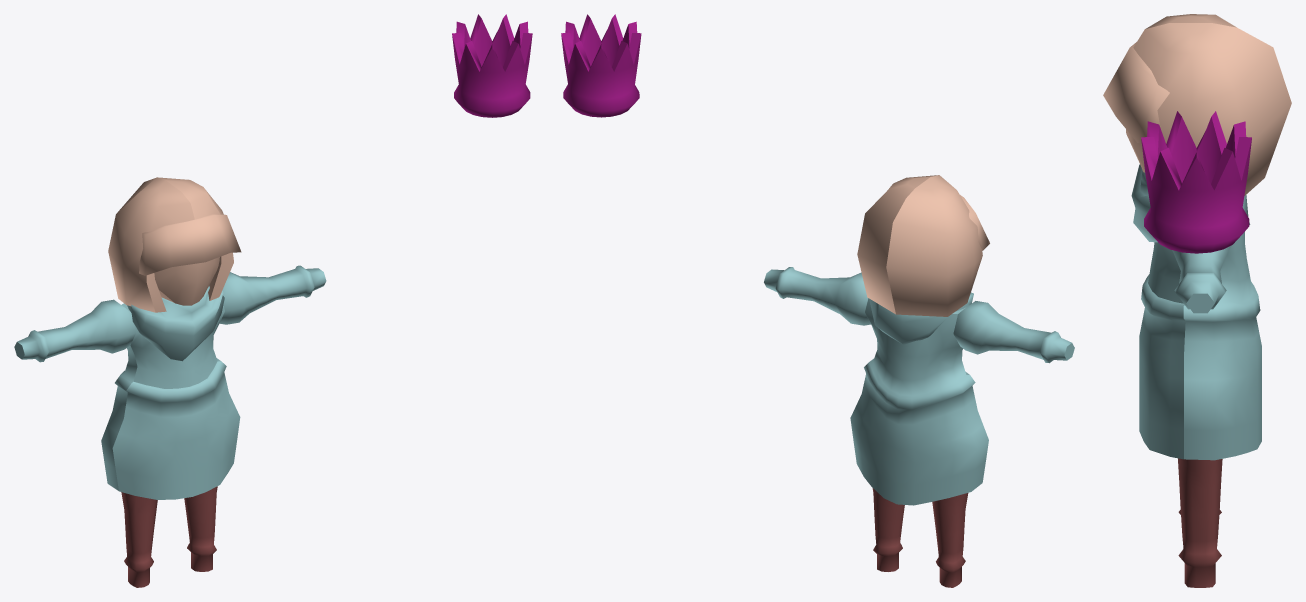
The model's file is princess_lp.obj.
The picture shows the model from 3 angles, left to right: view 1: azimuth 30°, elevation 25°; view 2: azimuth 150°, elevation 25°; view 3: azimuth 270°, elevation 25°; orthographic projection. The views are drawn at different scales.
Visible parts, largest first — view 1: body_lp, hair_lp, crown_lp, pants_lp, scarf_lp, face_lp; view 2: body_lp, hair_lp, crown_lp, pants_lp, scarf_lp; view 3: body_lp, hair_lp, crown_lp, pants_lp, scarf_lp, face_lp.
Part boxes in pixels (left/top/right/bottom): body_lp: left=14, top=265, right=326, bottom=499; hair_lp: left=108, top=177, right=241, bottom=312; crown_lp: left=452, top=14, right=532, bottom=117; pants_lp: left=121, top=486, right=217, bottom=587; scarf_lp: left=127, top=286, right=224, bottom=361; face_lp: left=154, top=257, right=219, bottom=305; body_lp: left=764, top=267, right=1074, bottom=505; hair_lp: left=857, top=175, right=989, bottom=316; crown_lp: left=561, top=14, right=641, bottom=117; pants_lp: left=872, top=488, right=968, bottom=587; scarf_lp: left=869, top=292, right=973, bottom=344; body_lp: left=1139, top=232, right=1261, bottom=460; hair_lp: left=1103, top=14, right=1291, bottom=195; crown_lp: left=1141, top=111, right=1251, bottom=253; pants_lp: left=1178, top=458, right=1222, bottom=587; scarf_lp: left=1131, top=164, right=1250, bottom=242; face_lp: left=1126, top=129, right=1144, bottom=172.
Size of the model in its own units: 49.57 by 43.73 by 11.63.
